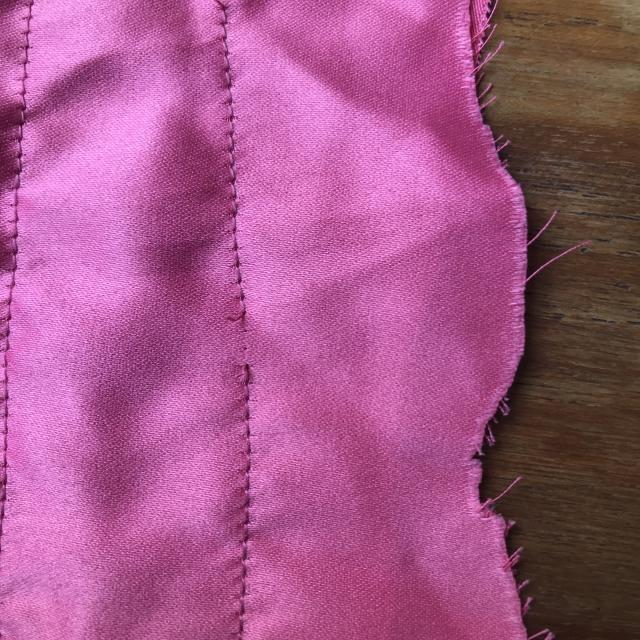broken: (215, 302, 273, 381)
